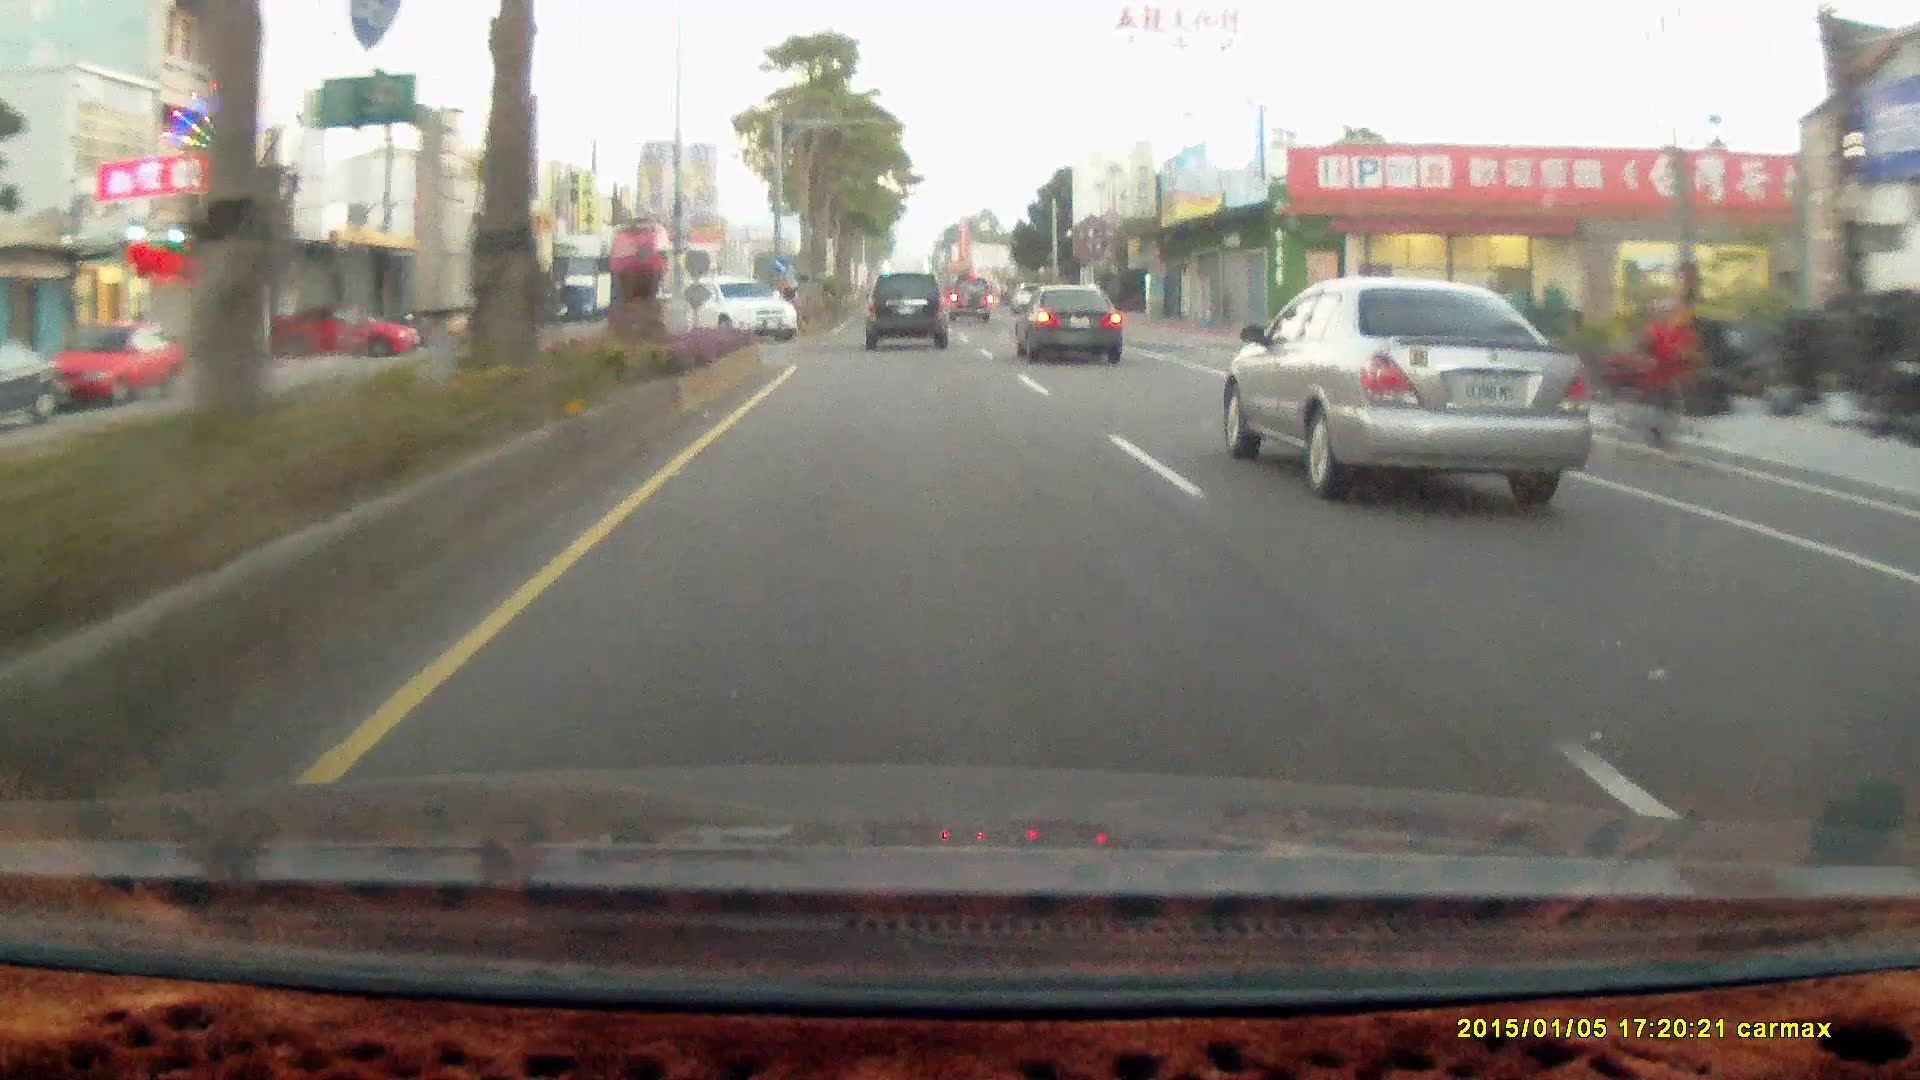pedestrian: (1634, 296, 1696, 461), (1642, 299, 1700, 452)
vehicle: (1238, 280, 1595, 505), (46, 325, 180, 407), (50, 324, 183, 407), (1011, 284, 1128, 369), (268, 305, 425, 362), (1012, 285, 1121, 365), (673, 278, 798, 345), (270, 303, 421, 359), (696, 281, 802, 349), (865, 277, 955, 354), (863, 273, 946, 351), (0, 337, 56, 432), (946, 282, 995, 332), (946, 275, 994, 325)
